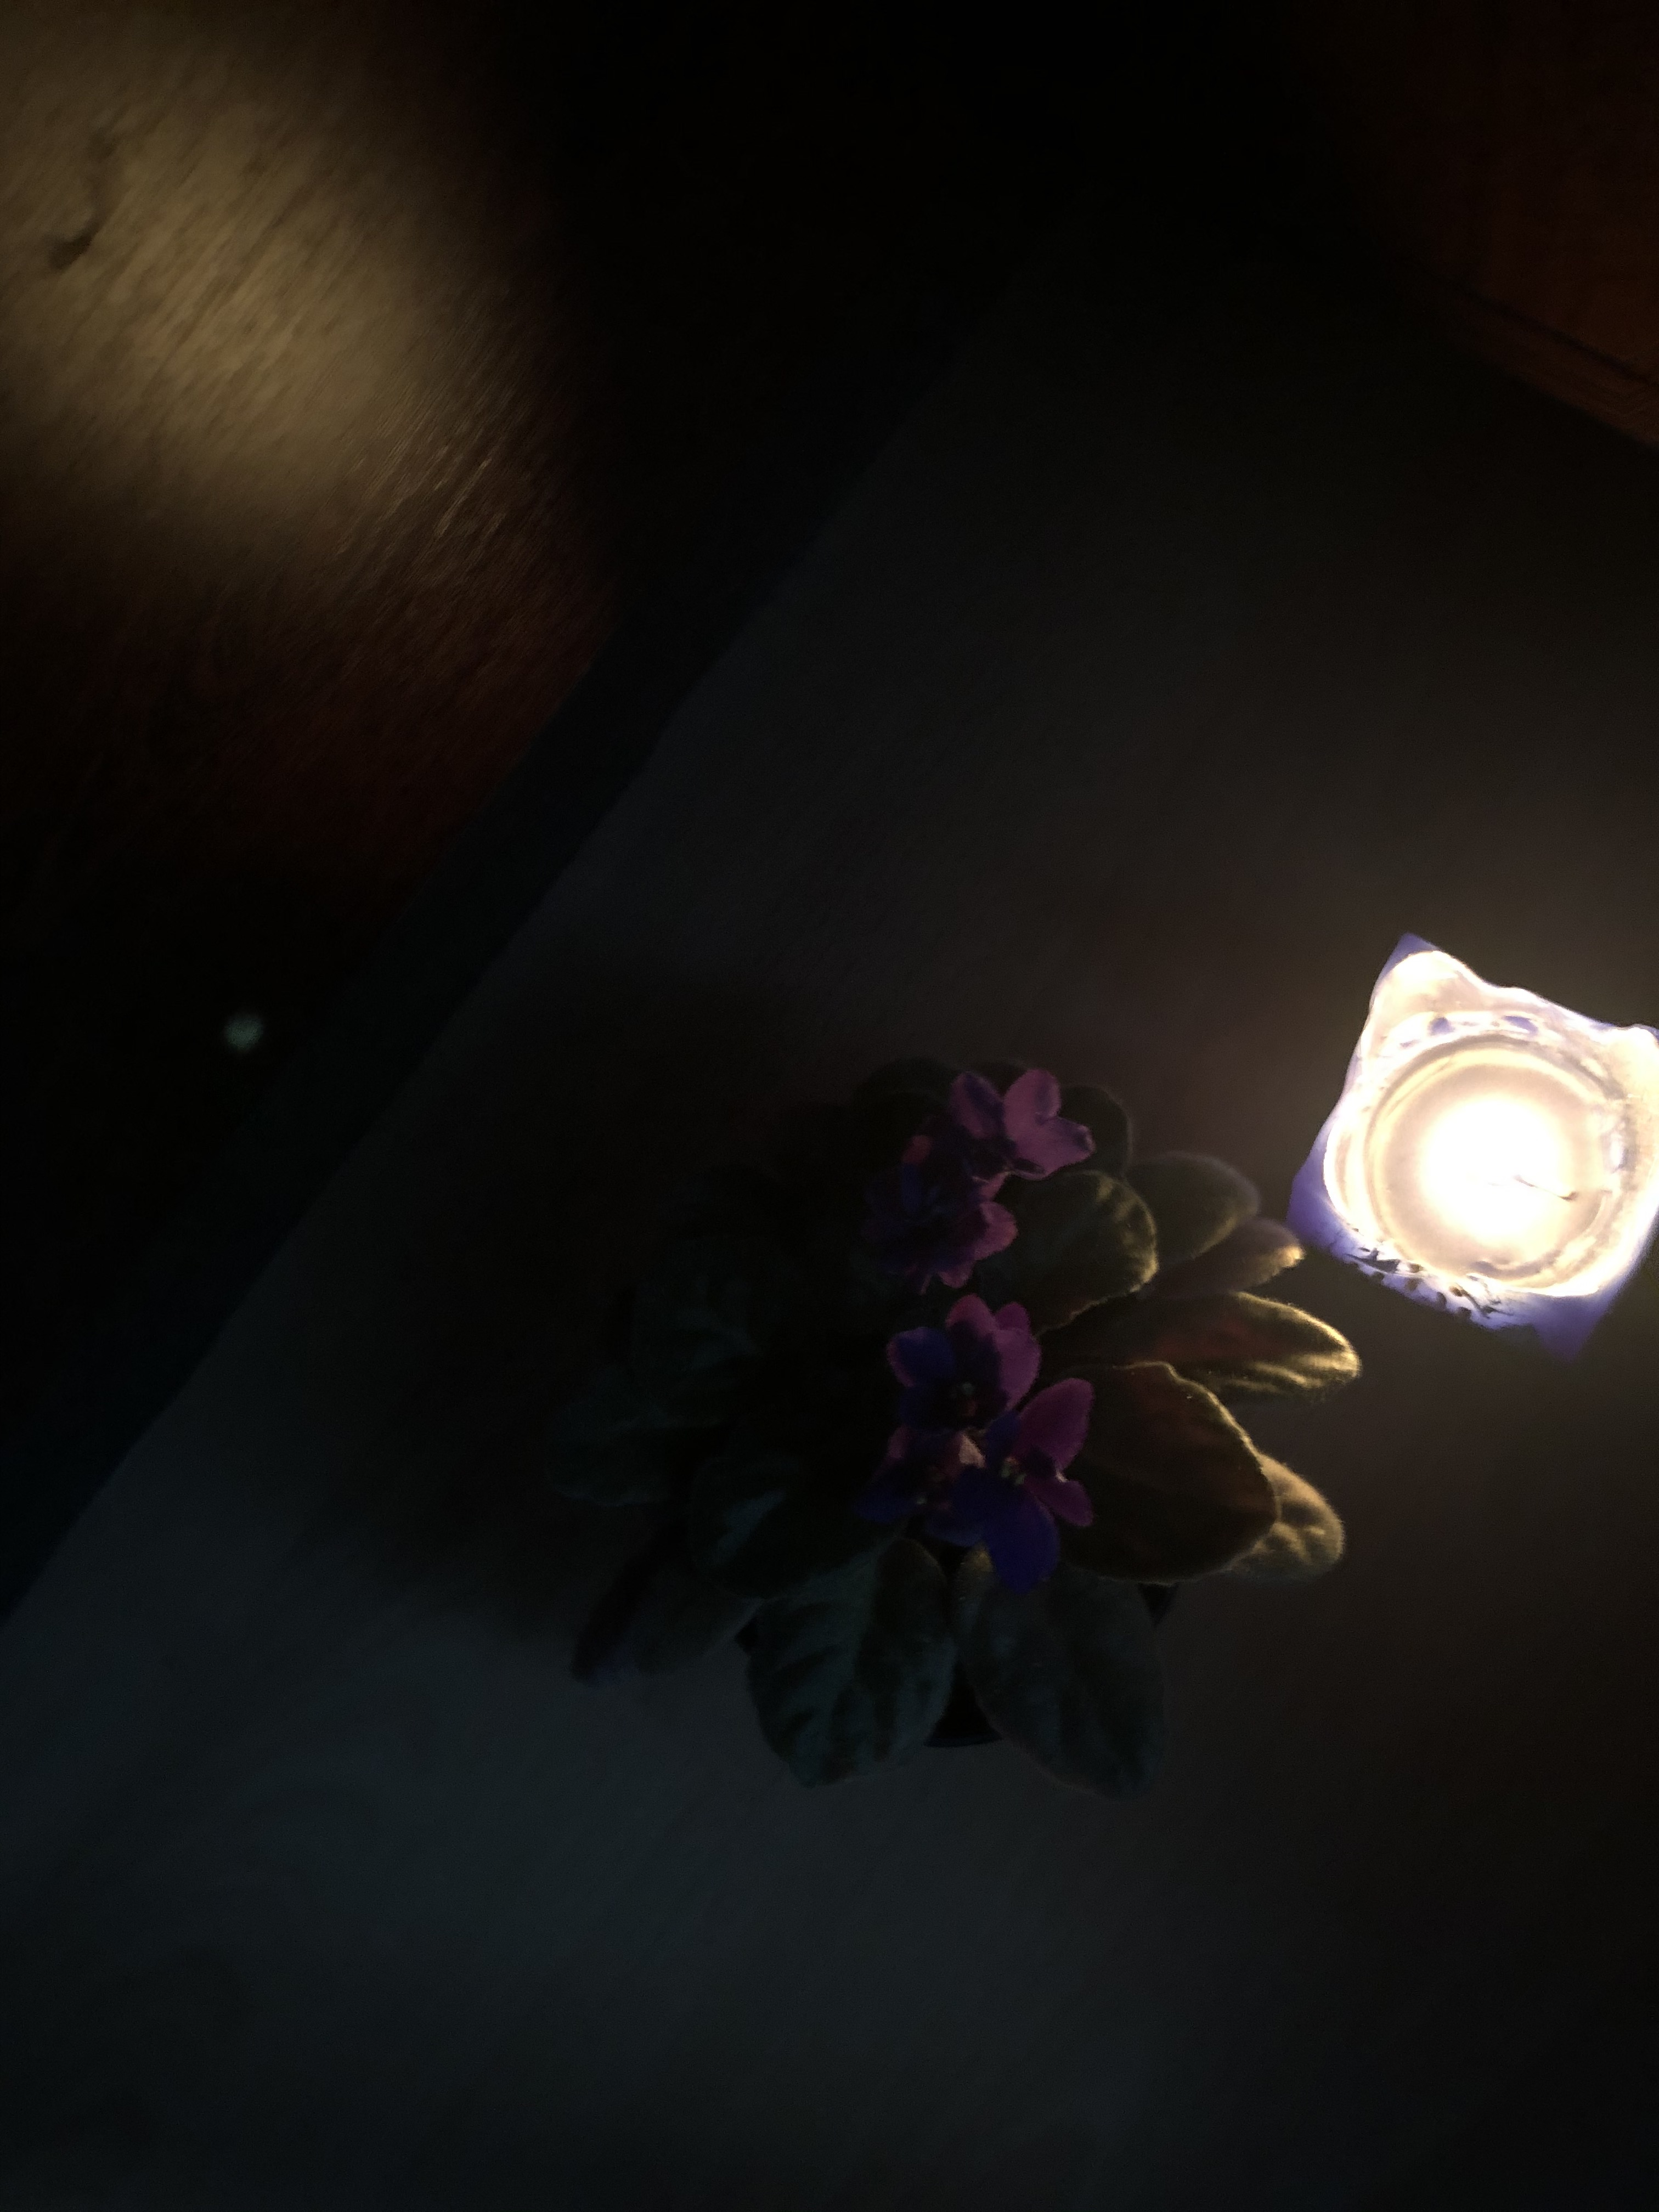ignore: (592, 1052, 1358, 1771)
